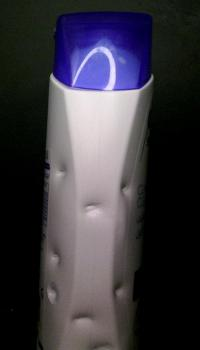dent_unacceptable: (67, 308, 105, 334), (41, 275, 67, 307), (105, 278, 133, 307), (116, 176, 140, 207), (80, 198, 112, 221), (51, 160, 78, 186), (45, 243, 69, 270), (86, 337, 122, 350)
